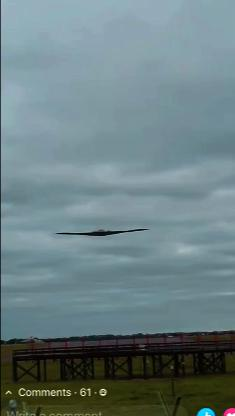B1: (53, 228, 148, 236)
